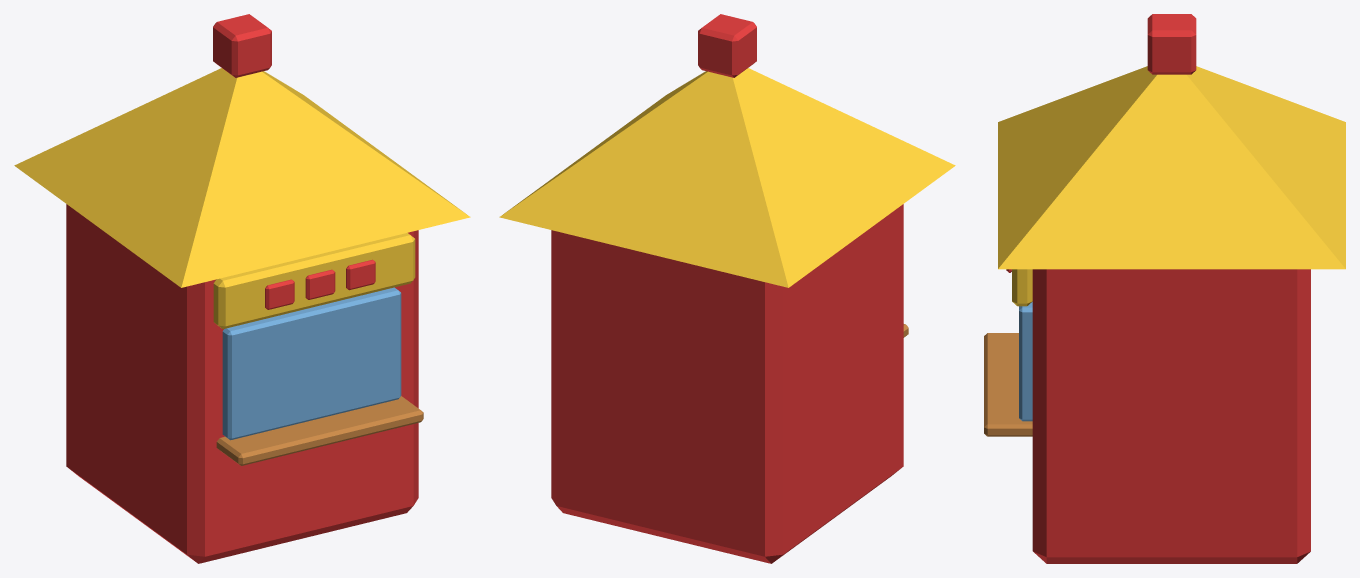
File: TicketBooth.fbx
3 renders of one model, left to right at view 1: azimuth 30°, elevation 25°; view 2: azimuth 150°, elevation 25°; view 3: azimuth 270°, elevation 25°, orthographic. The views are drawn at different scales.
Visible parts, largest first — view 1: TicketBooth; view 2: TicketBooth; view 3: TicketBooth.
Boxes of the visible parts, x1=… form: TicketBooth: x1=14, y1=14, x2=470, y2=563; TicketBooth: x1=499, y1=14, x2=955, y2=563; TicketBooth: x1=984, y1=14, x2=1345, y2=563.
Bounding box in the file's own units: 5 × 7.75 × 5.2.
Materials: 1 (1 with a texture image).
